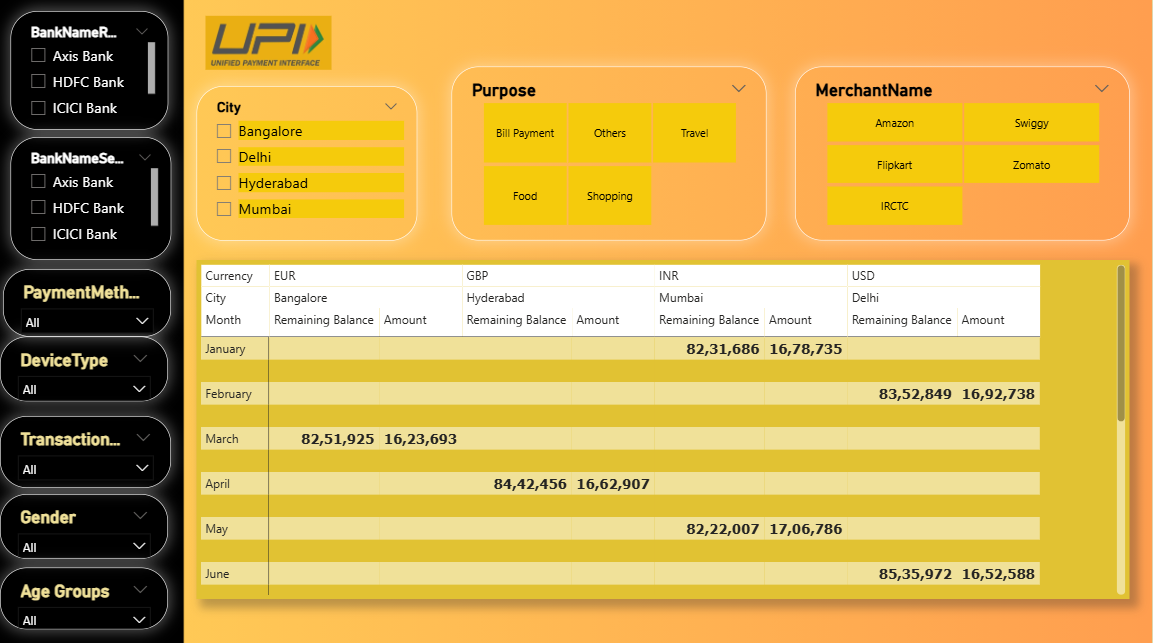

The page's visual inventory and layout, read from the dashboard file:
{"tool":"powerbi","page":{"name":"Monthly Transaction and Balance Breakdown","canvas":[1280,720],"ordinal":1},"visuals":[{"type":"slicer","fields":{"Values":["UPI Transaction.BankNameSent"]},"box":[11.7,153.3,178.3,136.7],"z":0},{"type":"slicer","fields":{"Values":["UPI Transaction.BankNameReceived"]},"box":[11.7,13.3,175,131.7],"z":1000},{"type":"slicer","fields":{"Values":["UPI Transaction.City"]},"box":[218.3,96.7,245,171.7],"z":2000},{"type":"slicer","fields":{"Values":["UPI Transaction.DeviceType"]},"box":[0,375,186.7,71.7],"z":3000},{"type":"slicer","fields":{"Values":["UPI Transaction.Gender"]},"box":[0,550,186.7,71.7],"z":4000},{"type":"slicer","fields":{"Values":["UPI Transaction.Age Groups"]},"box":[0,631.7,186.7,68.3],"z":5000},{"type":"slicer","fields":{"Values":["UPI Transaction.MerchantName"]},"box":[883.3,75,371.7,193.3],"z":6000},{"type":"slicer","fields":{"Values":["UPI Transaction.PaymentMethod"]},"box":[3.3,300,186.7,75],"z":7000},{"type":"slicer","fields":{"Values":["UPI Transaction.Purpose"]},"box":[501.7,75,350,193.3],"z":8000},{"type":"slicer","fields":{"Values":["UPI Transaction.TransactionType"]},"box":[0,463.3,190,80],"z":9000},{"type":"pivotTable","fields":{"Values":["Sum(UPI Transaction.RemainingBalance)","Sum(UPI Transaction.Amount)"],"Rows":["UPI Transaction.TransactionDate.Variation.Date Hierarchy.Month"],"Columns":["UPI Transaction.Currency","UPI Transaction.City"]},"box":[218.3,290,1036.7,376.7],"z":10000},{"type":"image","box":[218.3,13.3,160,70],"z":11000}]}

Visuals, with their boxes in screenshot pixels (x1, y1, x2, y2), scaled from the page's 1280x720 canvas onto the 1153x643 screenshot:
slicer - UPI Transaction.BankNameSent: [11,137,171,259]
slicer - UPI Transaction.BankNameReceived: [11,12,168,129]
slicer - UPI Transaction.City: [197,86,417,240]
slicer - UPI Transaction.DeviceType: [0,335,168,399]
slicer - UPI Transaction.Gender: [0,491,168,555]
slicer - UPI Transaction.Age Groups: [0,564,168,625]
slicer - UPI Transaction.MerchantName: [796,67,1130,240]
slicer - UPI Transaction.PaymentMethod: [3,268,171,335]
slicer - UPI Transaction.Purpose: [452,67,767,240]
slicer - UPI Transaction.TransactionType: [0,414,171,485]
pivotTable - Sum(UPI Transaction.RemainingBalance) x Sum(UPI Transaction.Amount): [197,259,1130,595]
image: [197,12,341,74]
